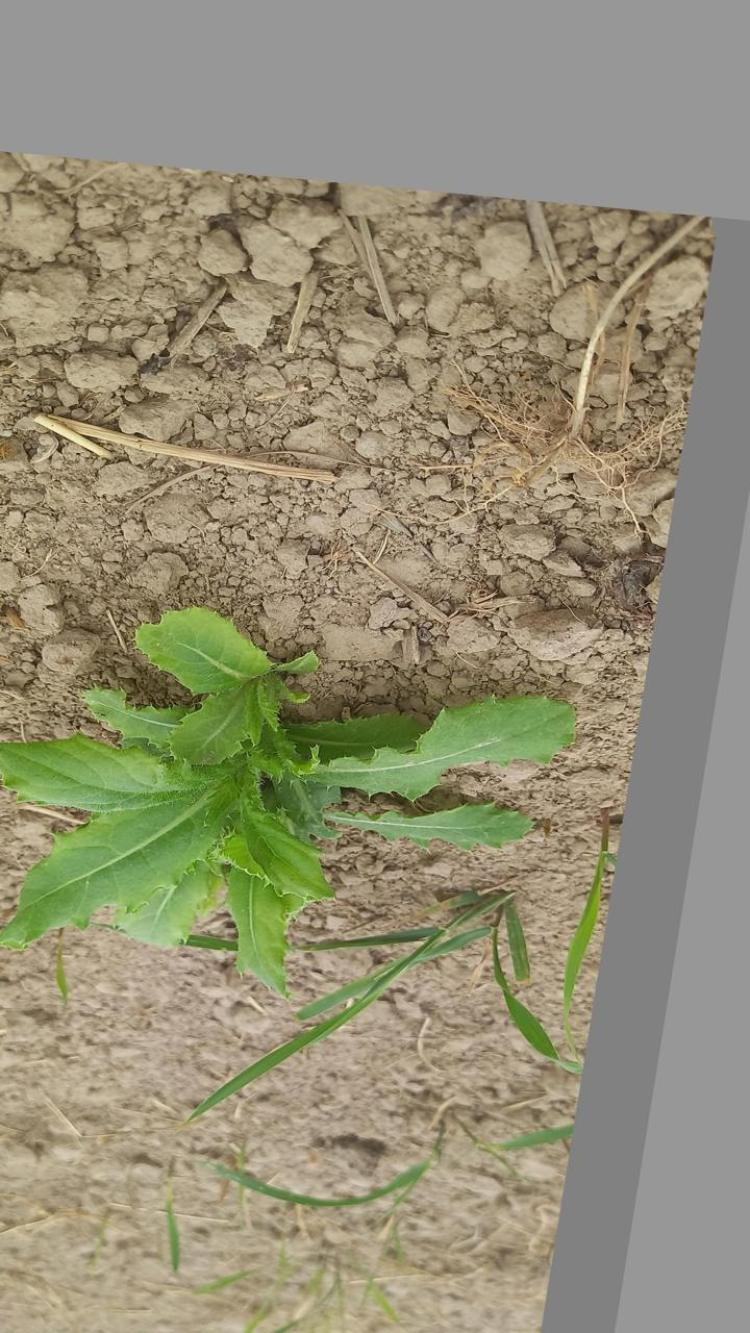bodyak: (4, 612, 602, 990)
